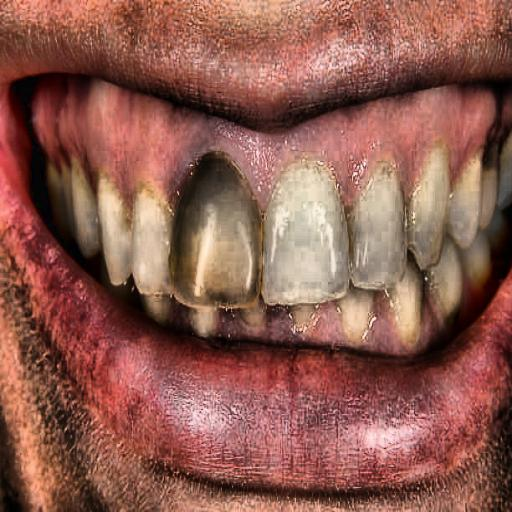Gingivitis: (43, 71, 248, 205), (259, 93, 512, 179)
